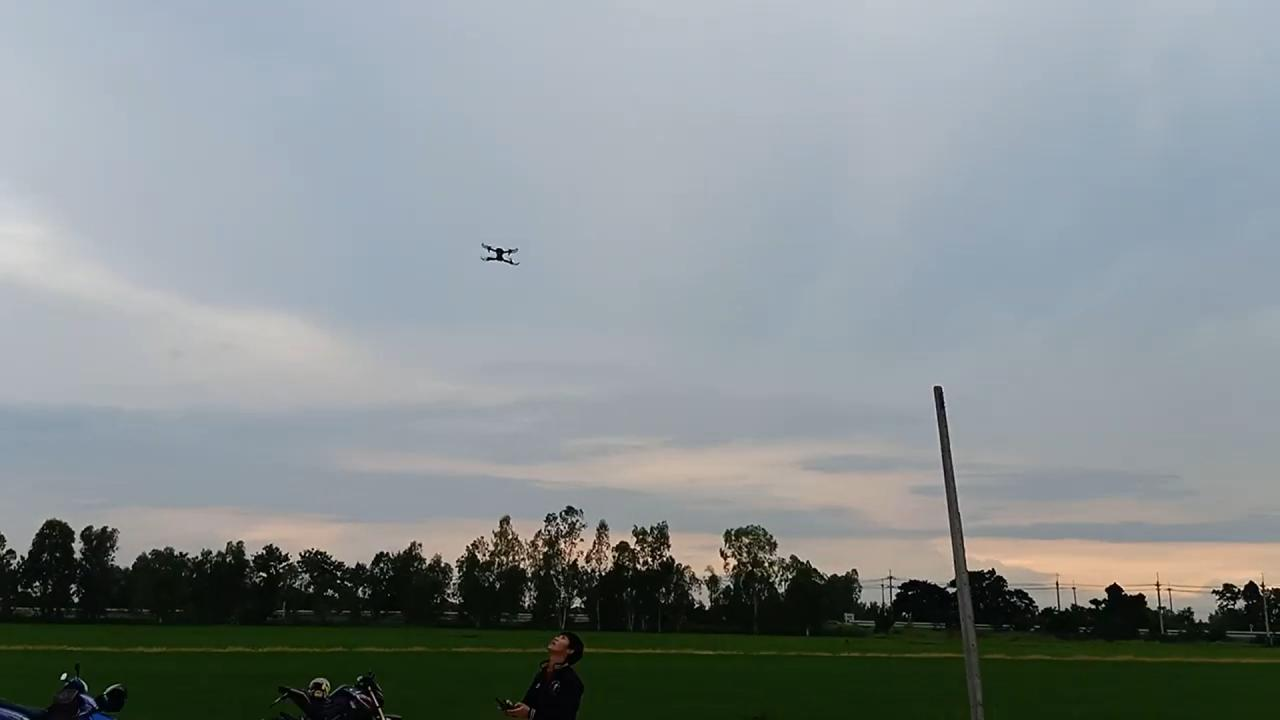Drone: (472, 230, 530, 278)
